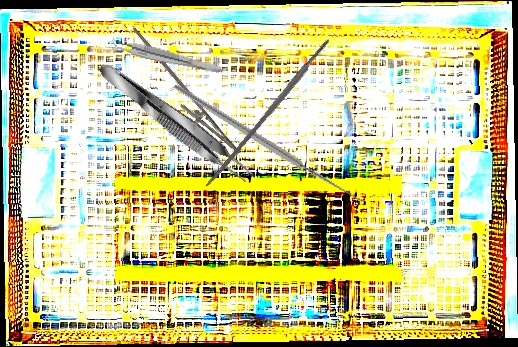Hook Surgical: (170, 26, 377, 257)
Needle Holder: (110, 26, 255, 164)
Scalpel Handle: (203, 36, 334, 190)
Tissue Forceps: (93, 55, 258, 189), (109, 36, 225, 75)
